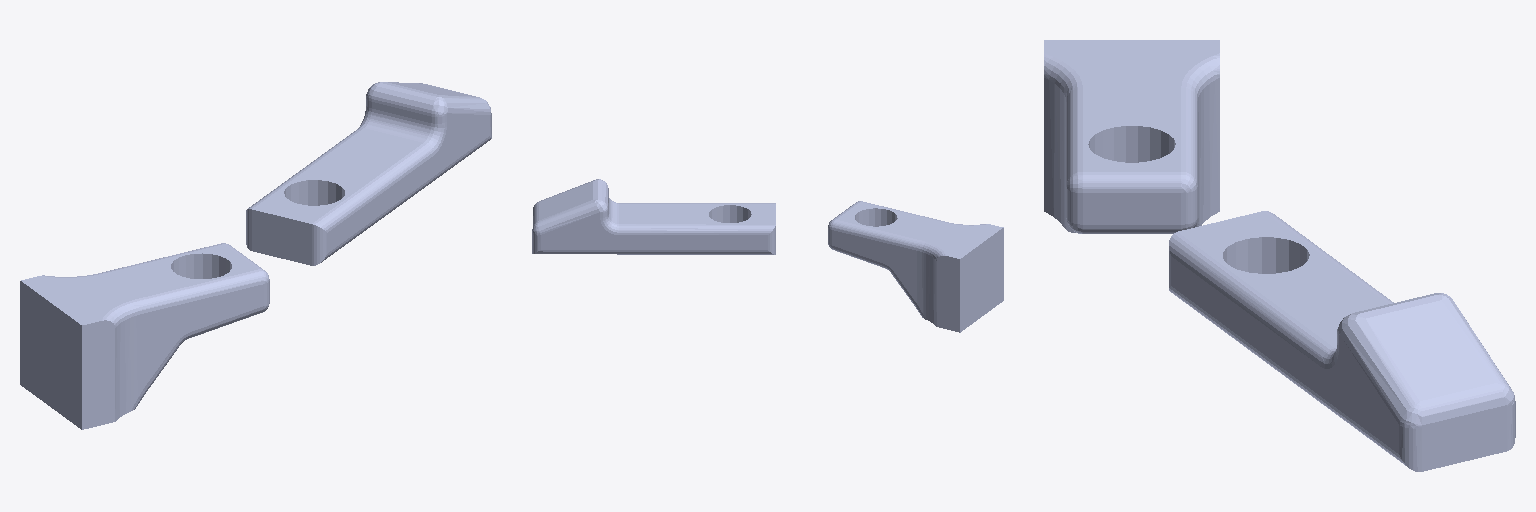
robot.urdf — scara:
<?xml version="1.0" encoding="utf-8"?>
<!-- This URDF was automatically created by SolidWorks to URDF Exporter! Originally created by [author] ([email redacted]) 
     Commit Version: 1.6.0-4-g7f85cfe  Build Version: 1.6.7995.38578
     For more information, please see http://wiki.ros.org/sw_urdf_exporter -->
<robot
  name="scara">
  <link
    name="base_link">
    <inertial>
      <origin
        xyz="0 0 0"
        rpy="0 0 0" />
      <mass
        value="3.77817160684553" />
      <inertia
        ixx="0.0125308515250432"
        ixy="-0.00445886583451945"
        ixz="1.09656845989623E-10"
        iyy="0.0286083752580722"
        iyz="-1.19084940381239E-09"
        izz="0.0288757056713447" />
    </inertial>
    <visual>
      <origin
        xyz="0 0 0"
        rpy="0 0 0" />
      <geometry>
        <mesh
          filename="package://scara/meshes/base_link.STL" />
      </geometry>
      <material
        name="">
        <color
          rgba="0.792156862745098 0.819607843137255 0.933333333333333 1" />
      </material>
    </visual>
    <collision>
      <origin
        xyz="0 0 0"
        rpy="0 0 0" />
      <geometry>
        <mesh
          filename="package://scara/meshes/base_link.STL" />
      </geometry>
    </collision>
  </link>
  <link
    name="l1">
    <inertial>
      <origin
        xyz="0.100580298915214 0.0863670807289593 0.0800000017245166"
        rpy="0 0 0" />
      <mass
        value="3.77817160684553" />
      <inertia
        ixx="0.0125308515250432"
        ixy="-0.00445886583451945"
        ixz="1.09656845923179E-10"
        iyy="0.0286083752580722"
        iyz="-1.19084940380642E-09"
        izz="0.0288757056713447" />
    </inertial>
    <visual>
      <origin
        xyz="0 0 0"
        rpy="0 0 0" />
      <geometry>
        <mesh
          filename="package://scara/meshes/l1.STL" />
      </geometry>
      <material
        name="">
        <color
          rgba="0.792156862745098 0.819607843137255 0.933333333333333 1" />
      </material>
    </visual>
    <collision>
      <origin
        xyz="0 0 0"
        rpy="0 0 0" />
      <geometry>
        <mesh
          filename="package://scara/meshes/l1.STL" />
      </geometry>
    </collision>
  </link>
  <joint
    name="l1"
    type="fixed">
    <origin
      xyz="-0.075797 -1.07 -0.21267"
      rpy="1.5708 0 0" />
    <parent
      link="base_link" />
    <child
      link="l1" />
    <axis
      xyz="0 0 0" />
  </joint>
  <link
    name="j2">
    <inertial>
      <origin
        xyz="0.158848366931551 0.0366603336954162 -9.85374284390161E-08"
        rpy="0 0 0" />
      <mass
        value="2.9382548842988" />
      <inertia
        ixx="0.00547804648524969"
        ixy="-0.00214046701062641"
        ixz="5.09955047757558E-08"
        iyy="0.0516754027736658"
        iyz="1.89907468050839E-08"
        izz="0.0494511186006761" />
    </inertial>
    <visual>
      <origin
        xyz="0 0 0"
        rpy="0 0 0" />
      <geometry>
        <mesh
          filename="package://scara/meshes/j2.STL" />
      </geometry>
      <material
        name="">
        <color
          rgba="0.792156862745098 0.819607843137255 0.933333333333333 1" />
      </material>
    </visual>
    <collision>
      <origin
        xyz="0 0 0"
        rpy="0 0 0" />
      <geometry>
        <mesh
          filename="package://scara/meshes/j2.STL" />
      </geometry>
    </collision>
  </link>
  <joint
    name="j2"
    type="continuous">
    <origin
      xyz="0.46645 0.09 -0.042465"
      rpy="0 0.51939 0" />
    <parent
      link="l1" />
    <child
      link="j2" />
    <axis
      xyz="0 1 0" />
  </joint>
</robot>

--- Facts derived from the render (not from the file) ---
3 views of the same robot in one strip: view 1: azimuth 30°, elevation 25°; view 2: azimuth 150°, elevation 25°; view 3: azimuth 270°, elevation 25° (orthographic).
Model scara with 3 links and 2 joints (1 continuous, 1 fixed), rooted at base_link, posed all joints at 0.
Visible links, largest first — view 1: j2, l1, base_link; view 2: j2, base_link, l1; view 3: j2, l1, base_link.
Link boxes in pixels (box(x1,y1,x2,y2)): j2: box(246, 82, 491, 265); l1: box(21, 243, 269, 428); base_link: box(20, 256, 269, 429); j2: box(532, 179, 775, 254); base_link: box(828, 208, 1003, 332); l1: box(828, 201, 1003, 332); j2: box(1169, 211, 1515, 471); l1: box(1044, 40, 1219, 226); base_link: box(1064, 78, 1219, 233).
Bounding box of the posed robot: 0.8076 × 0.4303 × 0.1997 m (x, y, z).
3 mesh visuals loaded from 3 distinct referenced files (3 binary STL).